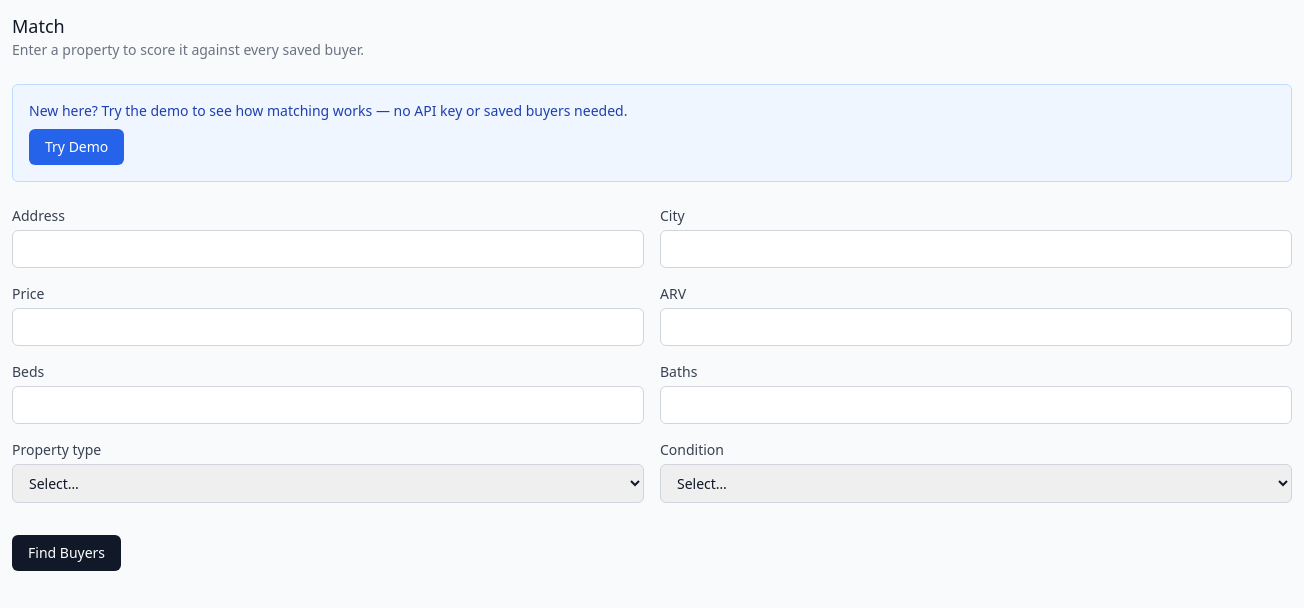
MatchPage empty results (13.11) › shows the empty-results message when zero matches are returned
Type "123 Main St" into the field labelled "Address". click: (328, 249)
box: [12,230,644,268]
Type "Tampa" into the field labelled "City". click: (976, 249)
box: [660,230,1292,268]
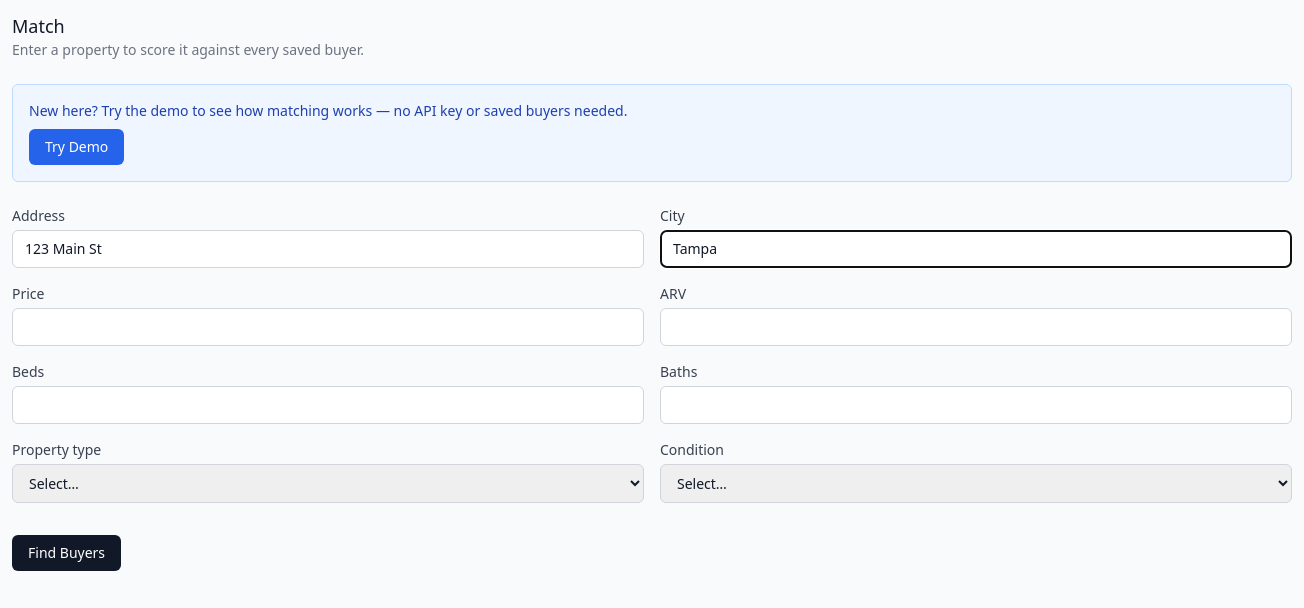
Type "150000" into the number field labelled "Price". click: (328, 327)
box: [12,308,644,346]
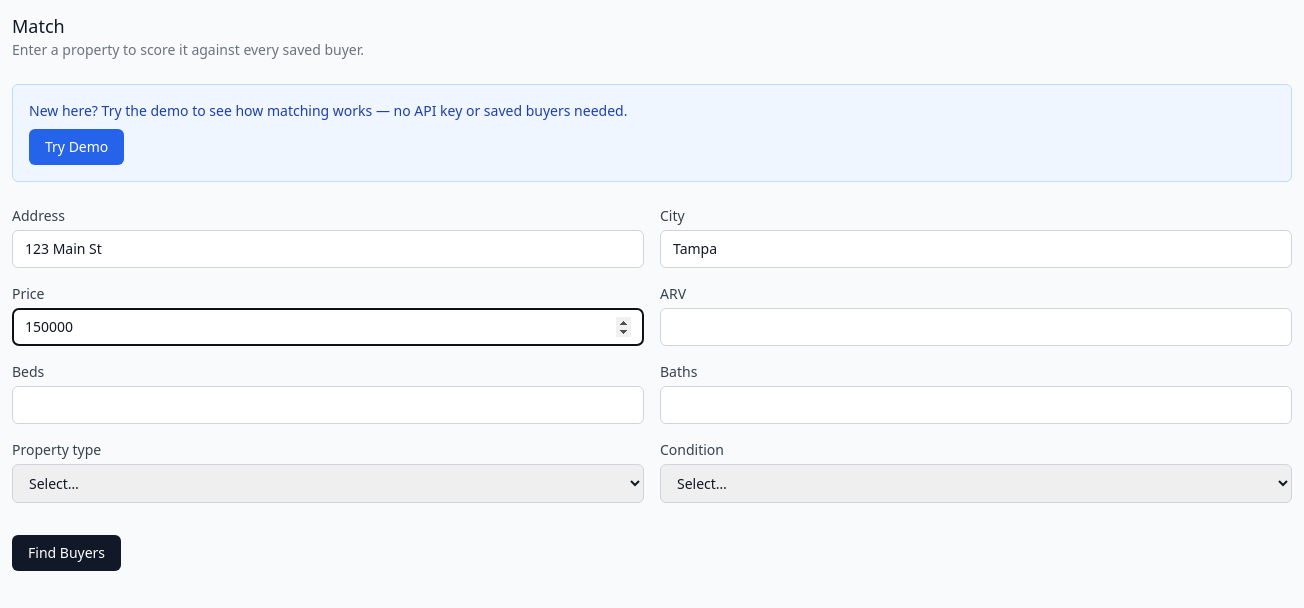
Type "200000" into the number field labelled "ARV". click: (976, 327)
box: [660,308,1292,346]
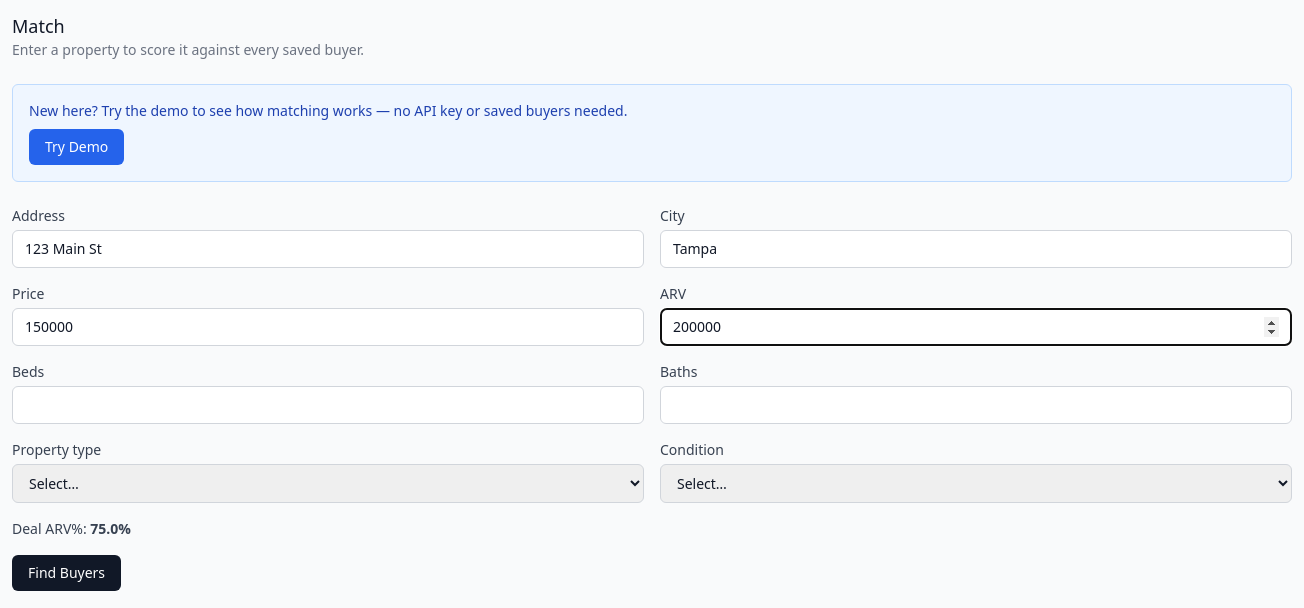
Select "Single family" in the dropdown labelled "Property type". click: (328, 484)
box: [12,464,644,503]
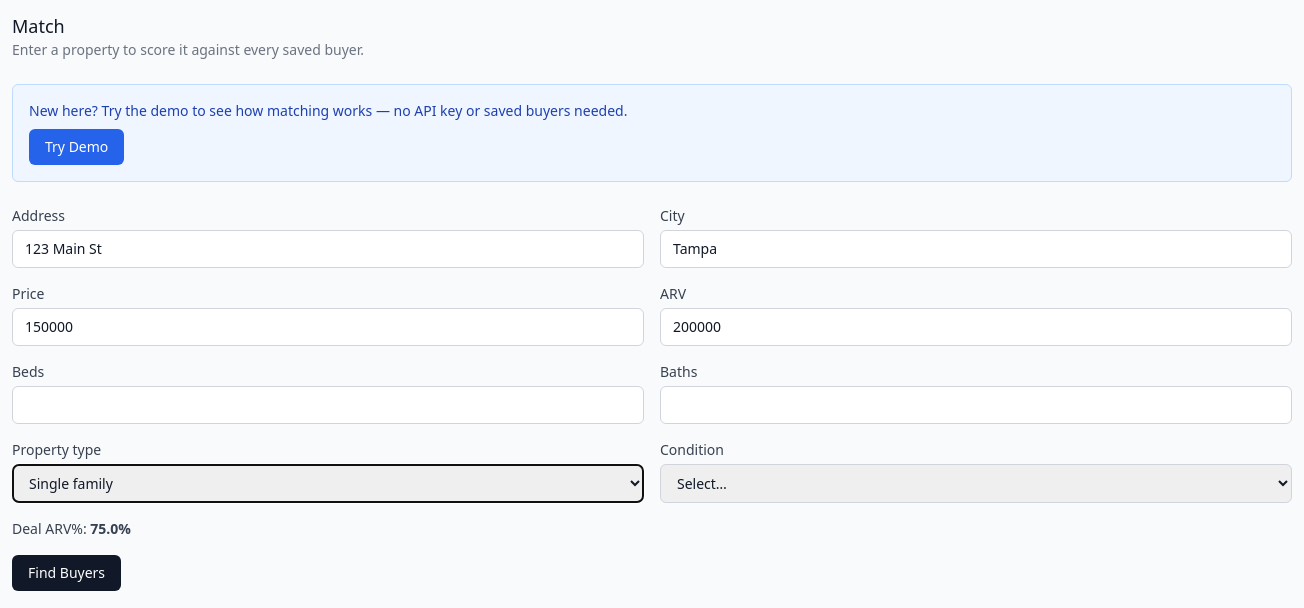
Select "Distressed" in the dropdown labelled "Condition". click: (976, 484)
box: [660,464,1292,503]
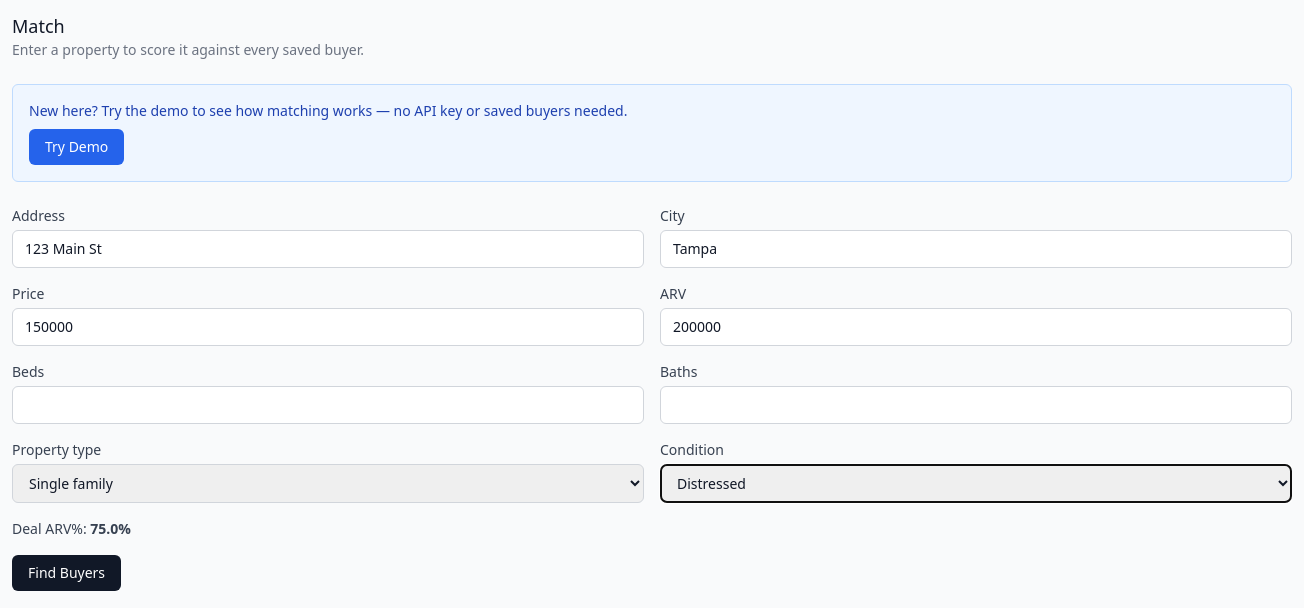
Click the button "Find Buyers". click: click(67, 573)
box: [12,555,121,591]
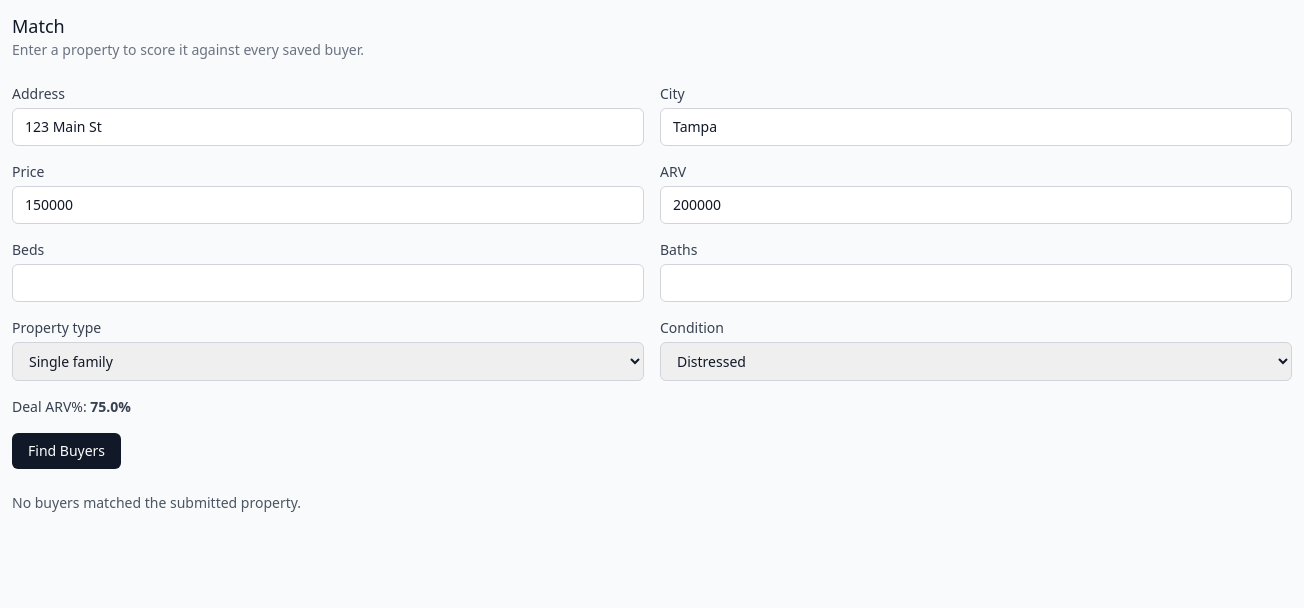
Result: the text "No buyers matched the submitted property." is shown at [12,493,301,512]
